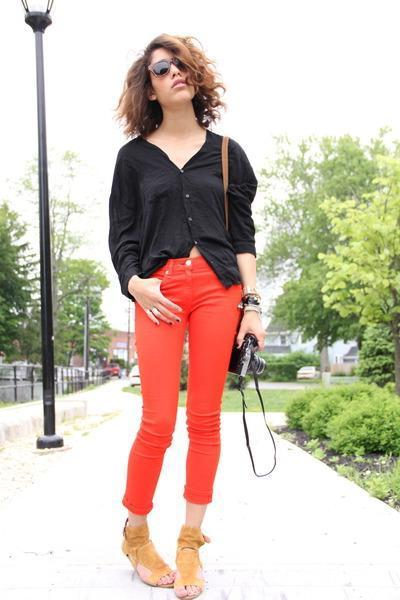long sleeve shirt: (105, 125, 260, 292)
trousers: (107, 253, 247, 514)
